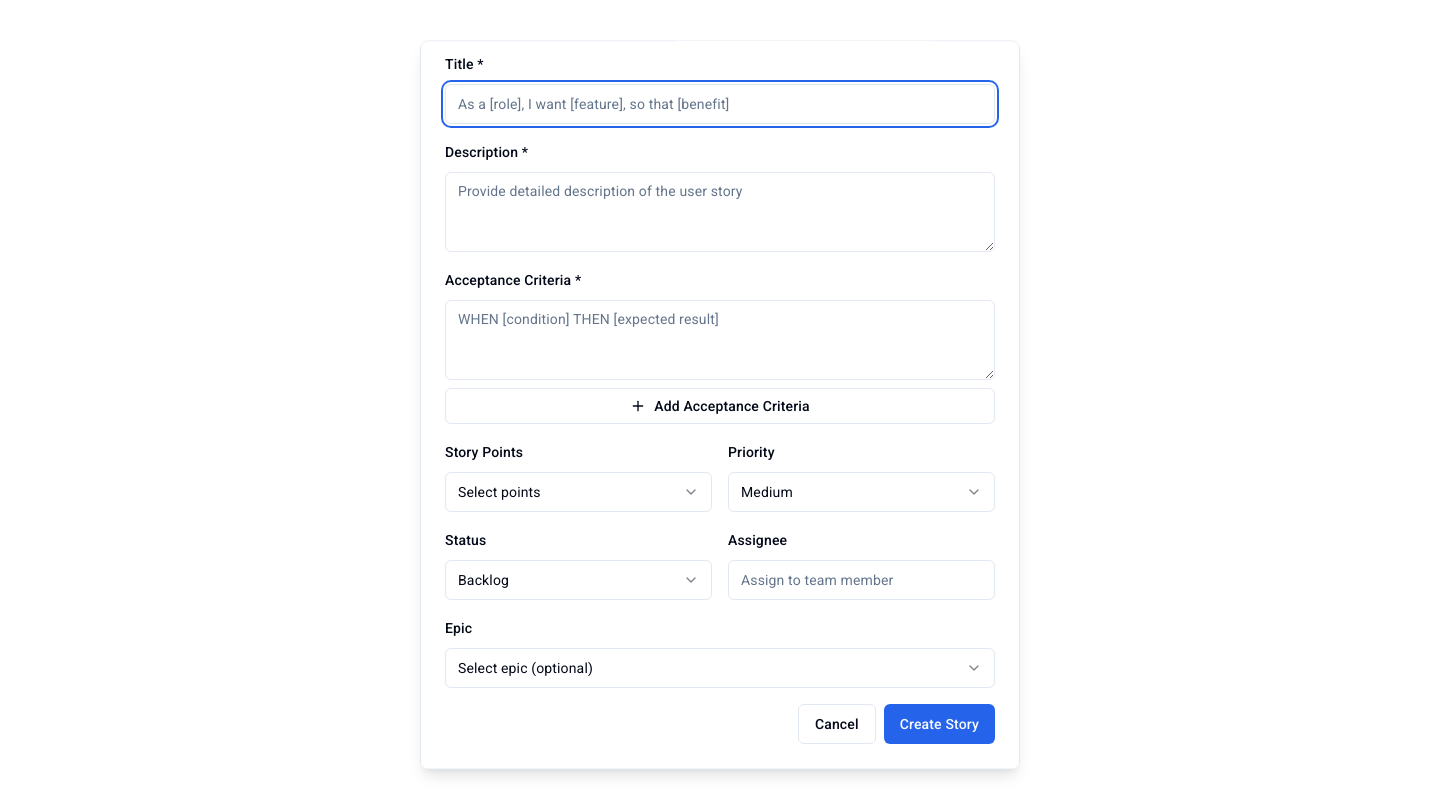
Test: UserStoryForm › validates required fields
(page scrolled)
Click the button "Create Story" at (939, 724), box [884,704,995,744]
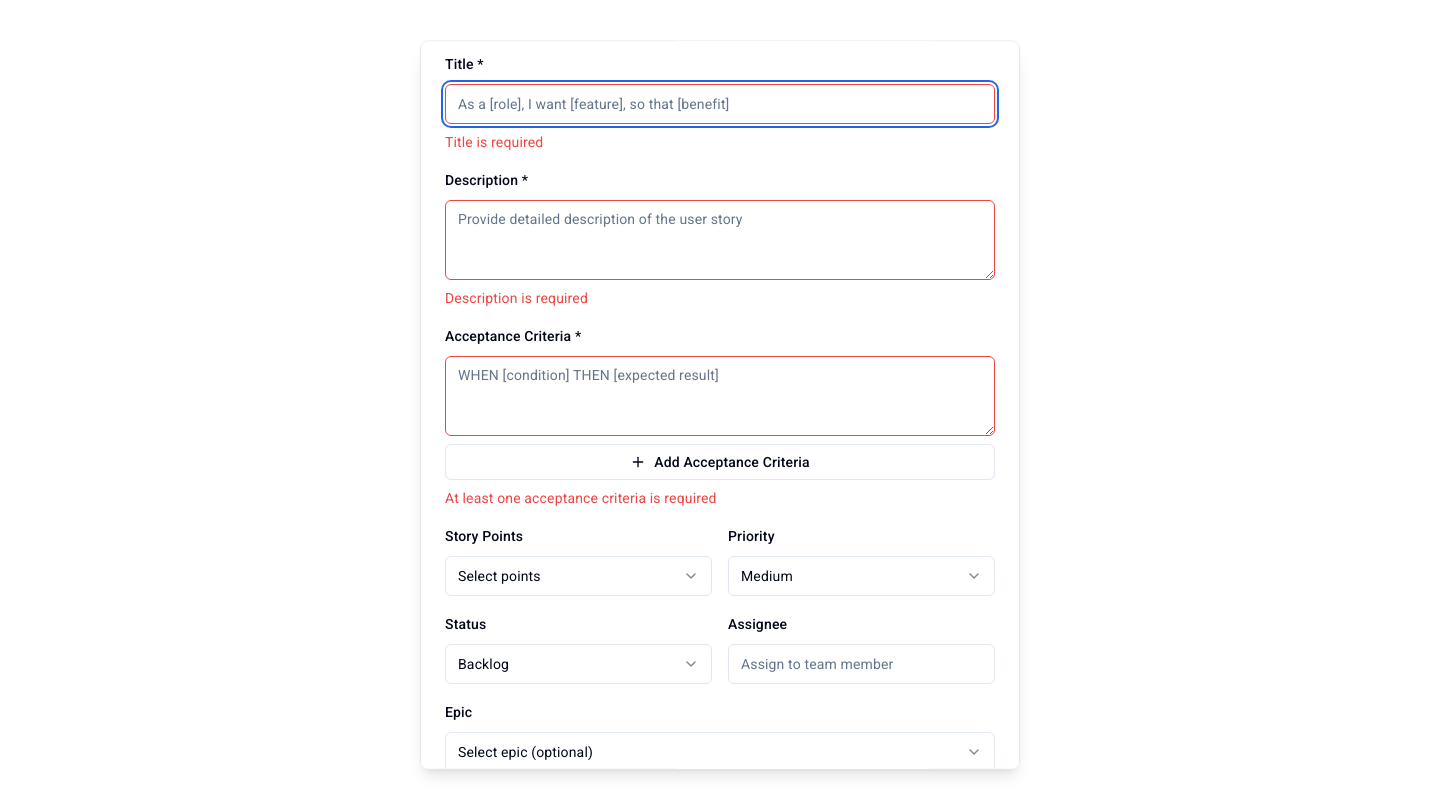
Expected: the text "Title is required" is shown, [445,134,543,150]
Expected: the text "Description is required" is shown, [445,290,588,306]
Expected: the text "At least one acceptance criteria is required" is shown, [445,490,717,506]
